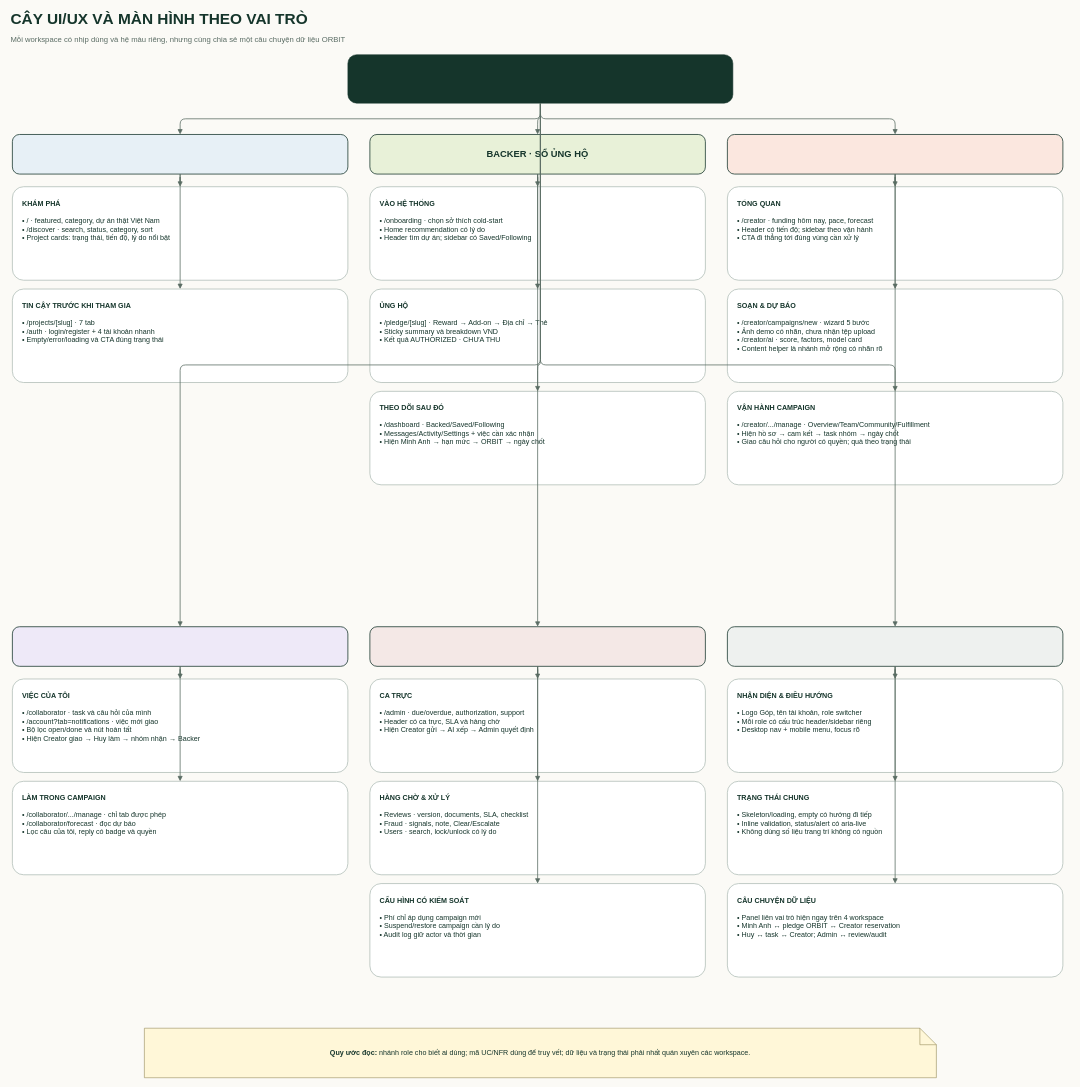
Image size: 1080x1087. Some labels were removed from this diagram. The centre of each missing label's shape, as x and y in pixels:
"ADMIN · BÀN KIỂM SOÁT" belongs at point (537, 646).
"COLLABORATOR · BẢNG VIỆC NHÓM" belongs at point (180, 646).
"CREATOR · XƯỞNG CHIẾN DỊCH" belongs at point (895, 154).
"GUEST · KHÔNG GIAN KHÁM PHÁ" belongs at point (180, 154).
"GÓP CROWDFUNDING PLATFORM Web responsive · dữ liệu VND · nhóm 2 sinh viên" belongs at point (540, 78).
"NHẬN DIỆN GÓP · DÙNG CHUNG" belongs at point (895, 646).
